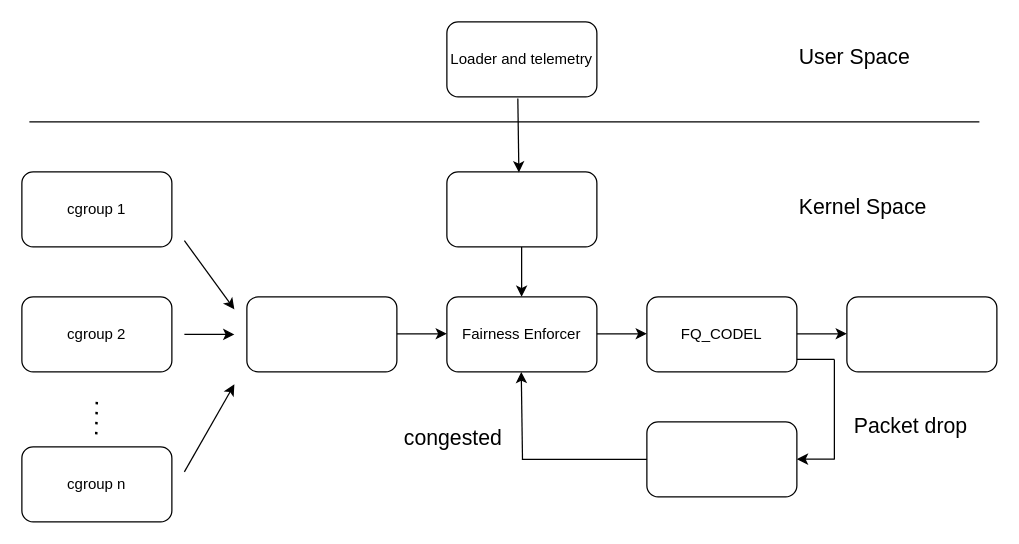
This 1019x544 diagram has some shape labels left out. The box of each missing label's shape, as (x1, y1, x2, y2) in pixels:
cgroup state maps: (446, 171, 597, 247)
Detector: (646, 421, 797, 497)
NIC Driver: (846, 296, 997, 372)
SKB and Traffic Control: (246, 296, 397, 372)
